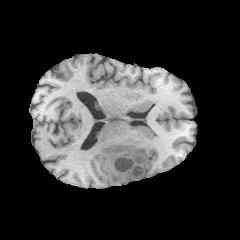glioma: (100, 143, 146, 184)
